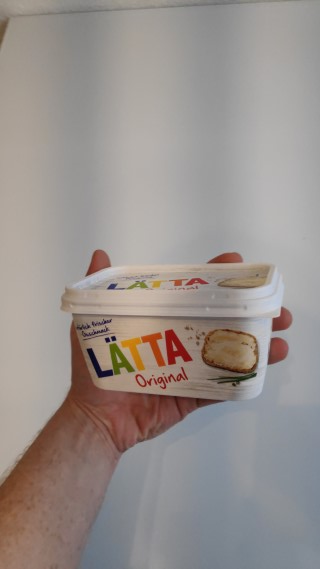laetta: (59, 257, 284, 403)
